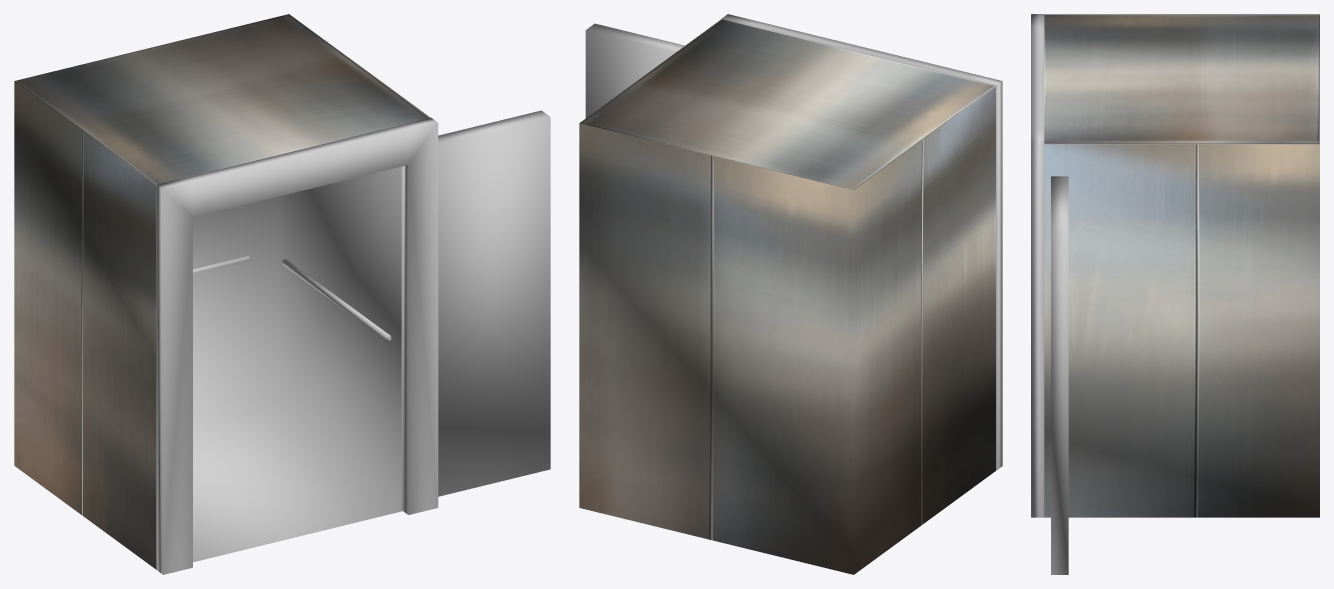
The model's file is elevator.fbx.
3 views of the same model, side by side, from view 1: azimuth 30°, elevation 25°; view 2: azimuth 150°, elevation 25°; view 3: azimuth 270°, elevation 25° (orthographic). The views are drawn at different scales.
Visible parts, largest first — view 1: cabin, exterior, door, railings; view 2: exterior, door, cabin; view 3: exterior, door, cabin.
Boxes of the visible parts, box(x1,y1,x2,y2) form: cabin: box(156, 117, 438, 574); exterior: box(14, 14, 430, 569); door: box(438, 110, 550, 496); railings: box(193, 255, 391, 341); exterior: box(579, 19, 995, 574); door: box(585, 23, 684, 117); cabin: box(721, 14, 1002, 470); exterior: box(1044, 14, 1319, 517); door: box(1051, 176, 1068, 574); cabin: box(1031, 14, 1044, 517).
Size of the model in its own units: 3.26 by 3.02 by 2.12.
